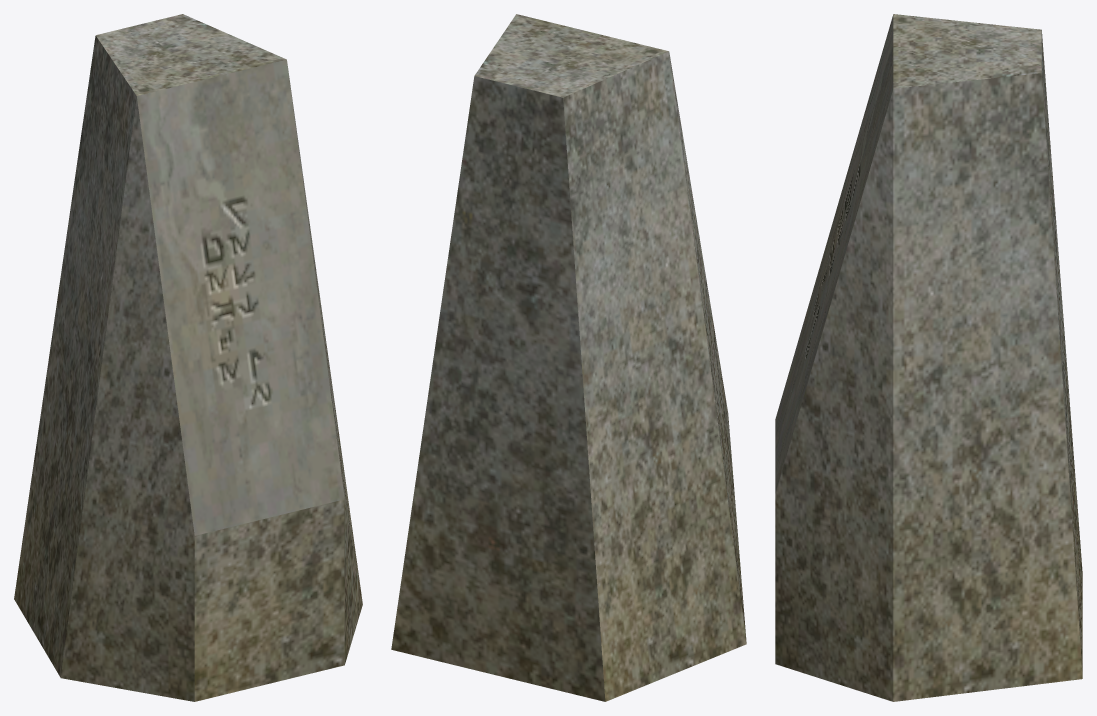
File: thm_all_gravestone_s02_l1.fbx
3 views of the same model, side by side, from view 1: azimuth 30°, elevation 25°; view 2: azimuth 150°, elevation 25°; view 3: azimuth 270°, elevation 25° (orthographic). The views are drawn at different scales.
Parts seen in each view (by area): view 1: mesh_node; view 2: mesh_node; view 3: mesh_node.
Boxes of the visible parts, <box> form: mesh_node: <box>14,14,362,701</box>; mesh_node: <box>391,14,746,701</box>; mesh_node: <box>775,14,1082,701</box>.
Size of the model in its own units: 0.5147 by 0.9174 by 0.4444.
